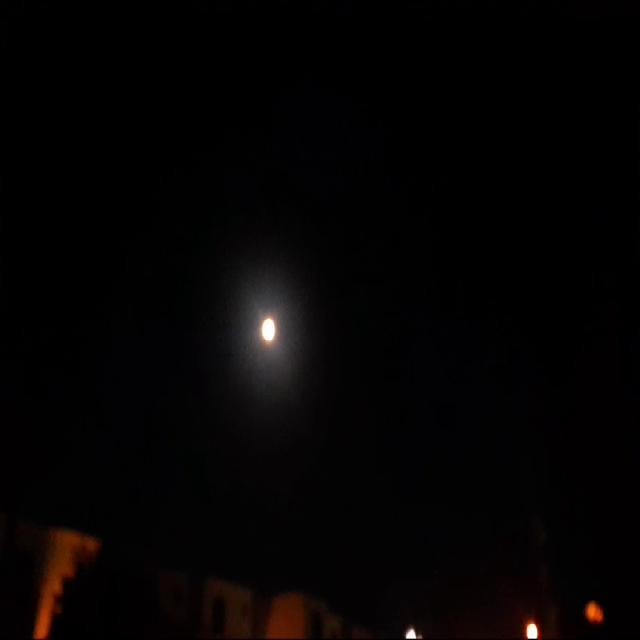moon: (257, 292, 279, 332)
